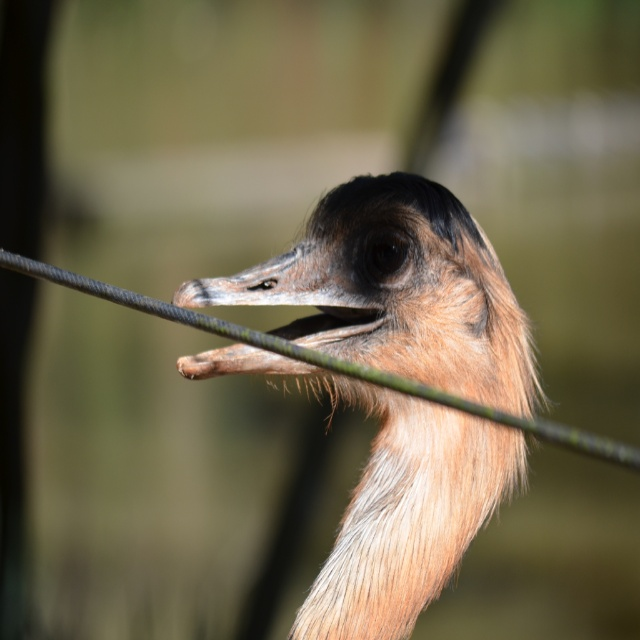Ostrich: (168, 169, 550, 639)
